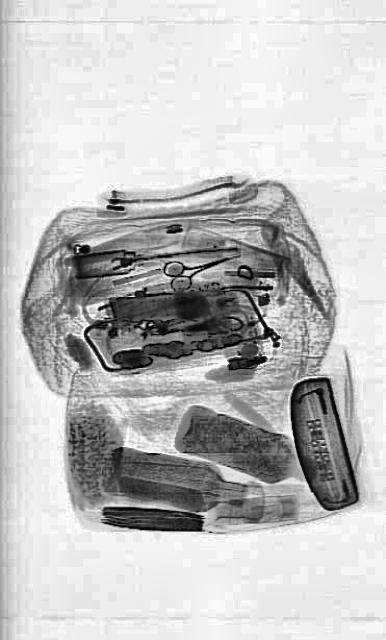Scissors: (160, 233, 242, 297)
